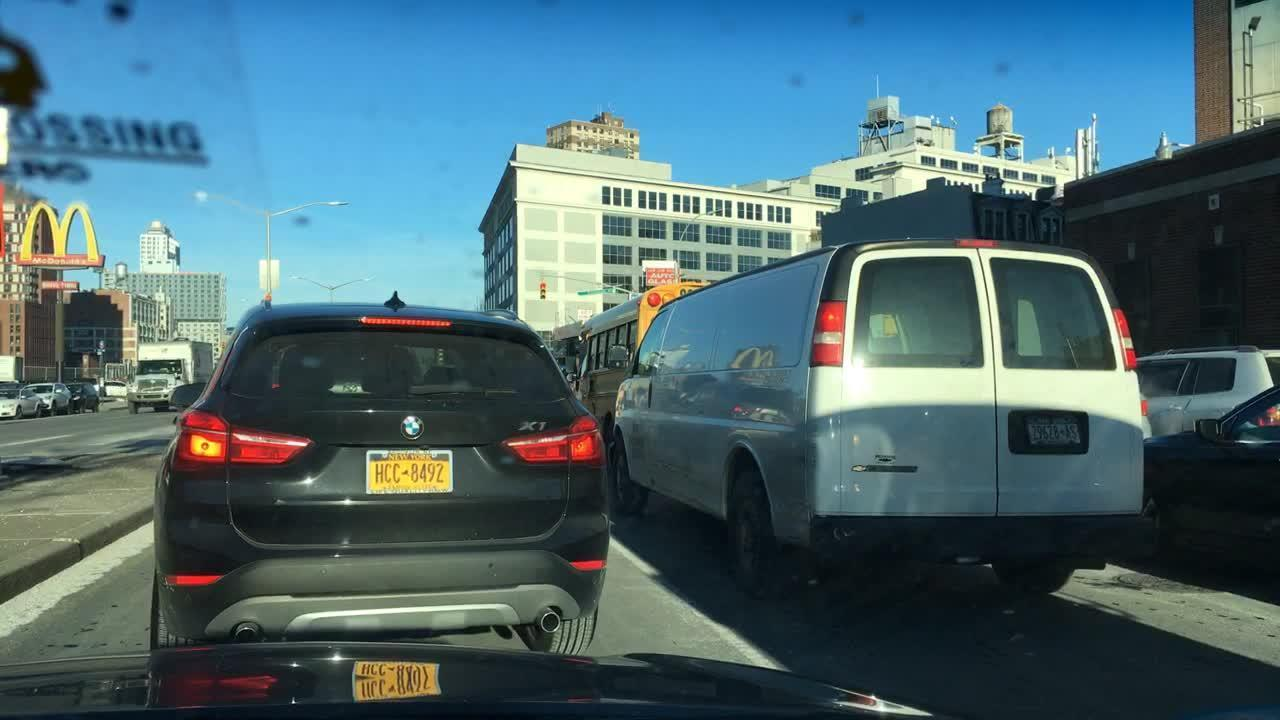Honda: (849, 461, 869, 478)
bmw: (398, 413, 425, 442)
